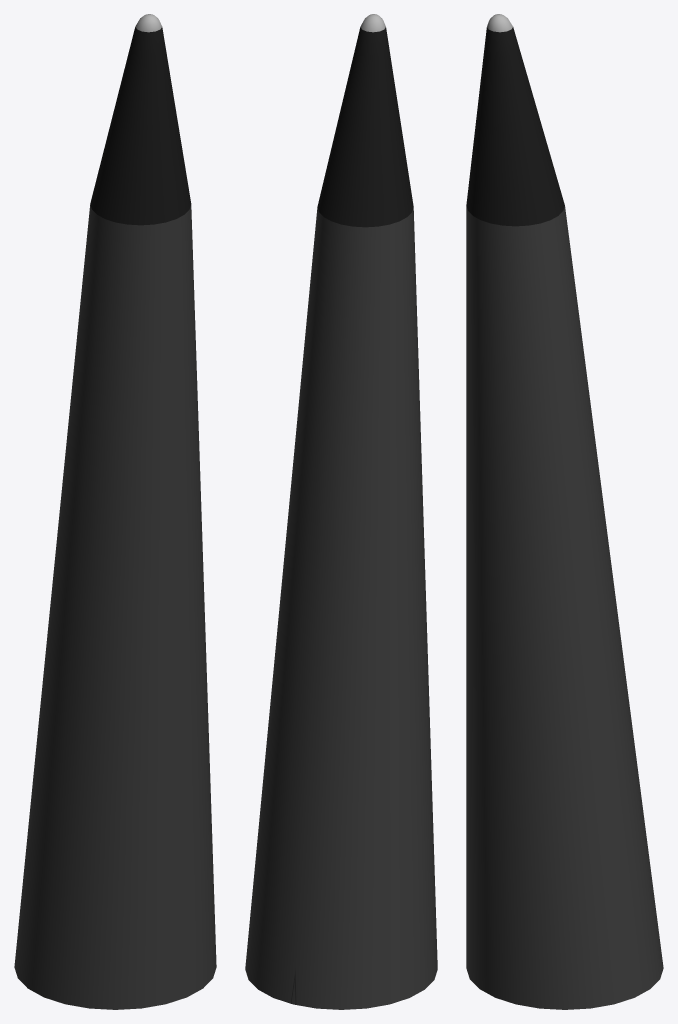
Rendered from tantares_lv_booster_fuel_tank_s1p5_2.obj.
The picture shows the model from 3 angles, left to right: view 1: azimuth 30°, elevation 25°; view 2: azimuth 150°, elevation 25°; view 3: azimuth 270°, elevation 25°; orthographic projection. The views are drawn at different scales.
Visible parts, largest first — view 1: tantares_lv_booster_fuel_tank_s1p5_2; view 2: tantares_lv_booster_fuel_tank_s1p5_2; view 3: tantares_lv_booster_fuel_tank_s1p5_2.
Part boxes in pixels (bbox=[...]): tantares_lv_booster_fuel_tank_s1p5_2: bbox=[14, 14, 216, 1009]; tantares_lv_booster_fuel_tank_s1p5_2: bbox=[245, 14, 437, 1009]; tantares_lv_booster_fuel_tank_s1p5_2: bbox=[466, 14, 663, 1009].
Size of the model in its own units: 1.88 by 10 by 1.88.
